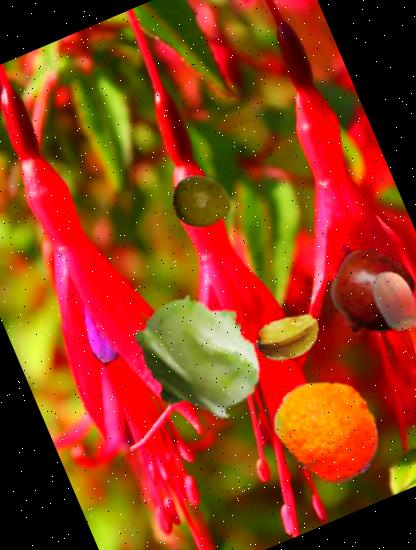Carambula: (247, 296, 330, 381)
Guava: (164, 163, 241, 240)
Hazelnut: (353, 258, 416, 341)
Kohlrabi: (111, 268, 288, 444)
Mandarine: (257, 357, 401, 501)
Pomegranate: (317, 238, 416, 349)
